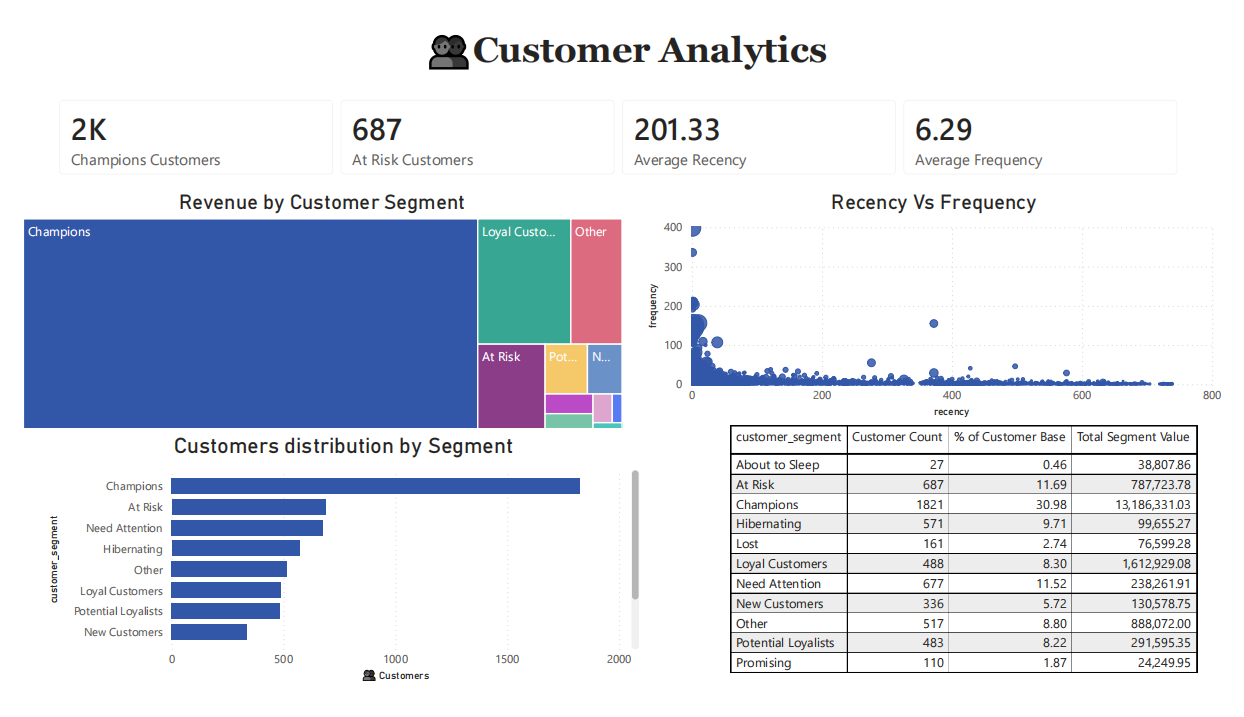

What the dashboard file says about the page in this screenshot:
{"tool":"powerbi","page":{"name":"Customer Analytics & RFM","canvas":[1280,720],"ordinal":1},"visuals":[{"type":"textbox","box":[424.5,0,475,68.3],"z":0},{"type":"pivotTable","fields":{"Rows":["dim_customer.r_score"],"Columns":["dim_customer.f_score"],"Values":["Calendar.👥 Customers"]},"box":[890.1,194.6,357.2,164.4],"z":1000},{"type":"scatterChart","title":"Recency Vs Frequency","fields":{"X":["Sum(dim_customer.days_since_last_purchase)"],"Y":["dim_customer.frequency"],"Size":["Sum(dim_customer.monetary)"]},"box":[661.4,181.4,618,243.8],"z":2000},{"type":"clusteredBarChart","title":" Customers distribution by Segment","fields":{"Category":["dim_customer.customer_segment"],"Y":["Calendar.👥 Customers"]},"box":[26.7,438.3,635,266.7],"z":3000},{"type":"treemap","title":"Revenue by Customer Segment","fields":{"Group":["dim_customer.customer_segment"],"Values":["Calendar.💰 Revenue"]},"box":[0,181.4,644.4,257],"z":4000},{"type":"tableEx","fields":{"Values":["Detailed_RFM_Summary.customer_segment","Detailed_RFM_Summary.Customer Count","Detailed_RFM_Summary.% of Customer Base","Detailed_RFM_Summary.Total Segment Value"]},"box":[748.3,425,518.3,280],"z":5000},{"type":"cardVisual","fields":{"Data":["Calendar.Champions","Calendar.At Risk Count","Calendar.Average Recency","Calendar.Average Frequency"]},"box":[26.5,68,1220.8,113.4],"z":6000}]}

Visuals, with their boxes in screenshot pixels (x1, y1, x2, y2), scaled from the page's 1280x720 canvas onto the 1244x717 screenshot:
textbox: pyautogui.locateOnScreen(413, 0, 874, 68)
pivotTable - dim_customer.r_score x dim_customer.f_score: pyautogui.locateOnScreen(865, 194, 1212, 358)
"Recency Vs Frequency" scatterChart: pyautogui.locateOnScreen(643, 181, 1243, 423)
" Customers distribution by Segment" clusteredBarChart: pyautogui.locateOnScreen(26, 436, 643, 702)
"Revenue by Customer Segment" treemap: pyautogui.locateOnScreen(0, 181, 626, 437)
tableEx - Detailed_RFM_Summary.customer_segment x Detailed_RFM_Summary.Customer Count: pyautogui.locateOnScreen(727, 423, 1231, 702)
cardVisual - Calendar.Champions x Calendar.At Risk Count: pyautogui.locateOnScreen(26, 68, 1212, 181)
